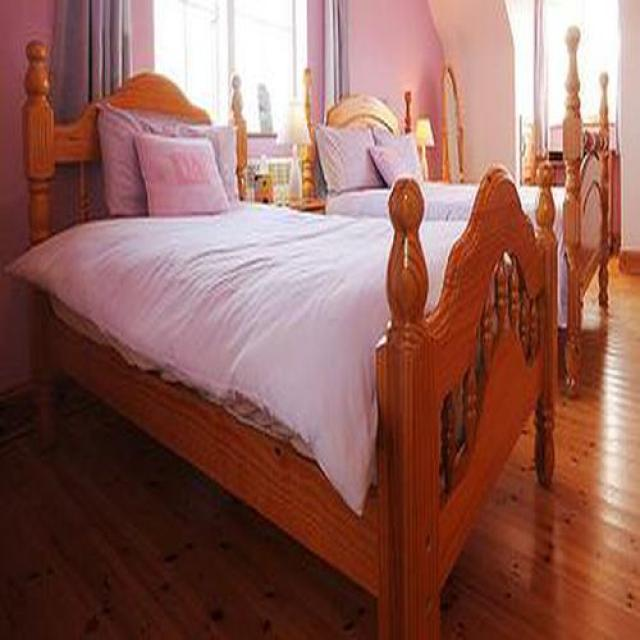bed: (5, 40, 553, 640)
